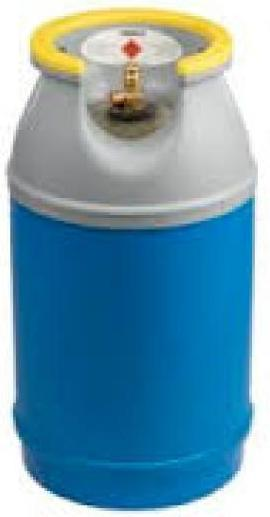cylinder: (1, 1, 270, 517)
